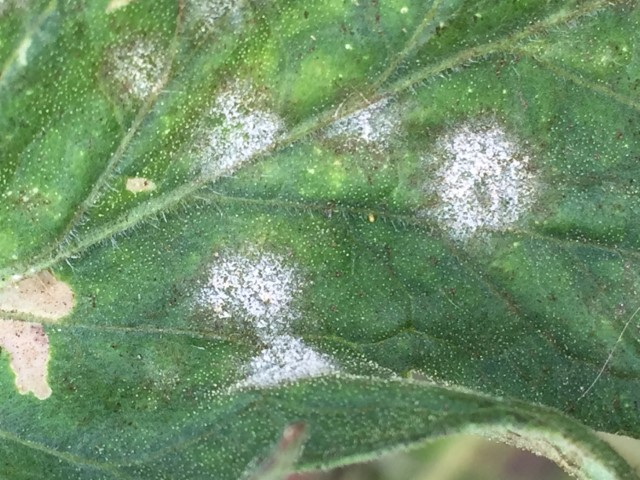oidio: (420, 118, 541, 243), (191, 78, 284, 180), (196, 248, 302, 332), (230, 337, 335, 390), (326, 96, 399, 151), (113, 40, 167, 97), (196, 1, 246, 38)
